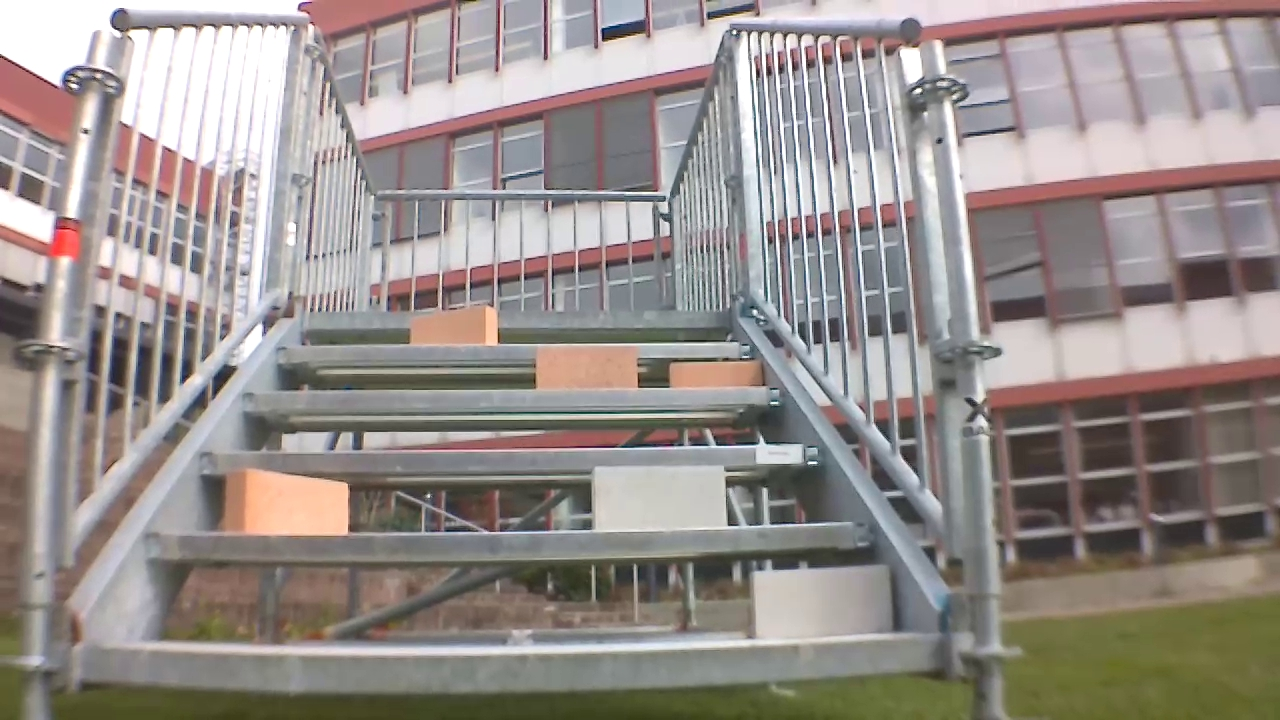brick: (750, 565, 891, 638), (591, 466, 725, 529), (223, 469, 348, 534), (535, 345, 637, 386), (410, 306, 497, 345), (669, 362, 762, 386)
edge: (82, 643, 937, 690), (148, 524, 871, 560), (197, 445, 823, 472), (244, 388, 778, 409), (278, 341, 752, 363), (303, 309, 730, 326)
stairs: (5, 8, 1021, 717)
steps: (78, 304, 950, 700)
